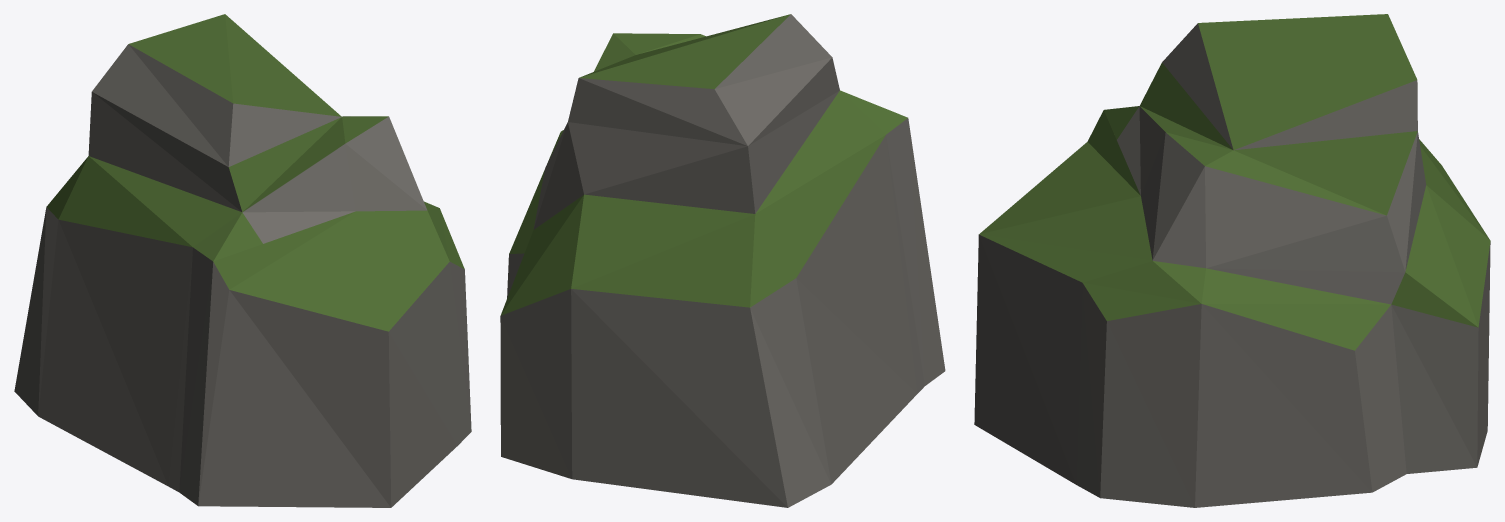
Rendered from boulder_3.glb.
3 renders of one model, left to right at view 1: azimuth 30°, elevation 25°; view 2: azimuth 150°, elevation 25°; view 3: azimuth 270°, elevation 25°, orthographic. The views are drawn at different scales.
Visible parts, largest first — view 1: lod0; view 2: lod0; view 3: lod0.
Boxes of the visible parts, left/top/right/bottom form: lod0: left=14, top=14, right=471, bottom=507; lod0: left=500, top=14, right=945, bottom=507; lod0: left=974, top=14, right=1490, bottom=507.
Size of what is drawn, in the model's own units: 3.25 by 3.25 by 4.08.
